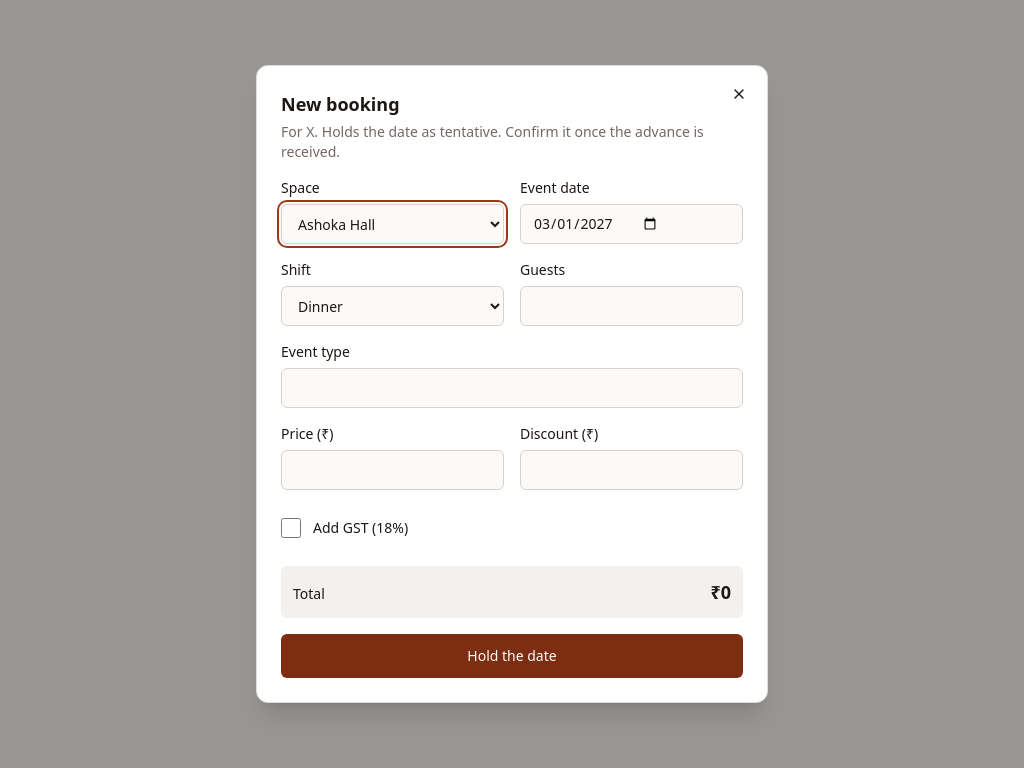
Test: NewBookingDialog › rejects a discount larger than the price
Type "1000" into the field labelled "Price (₹)" at (392, 470), box [281, 450, 504, 490]
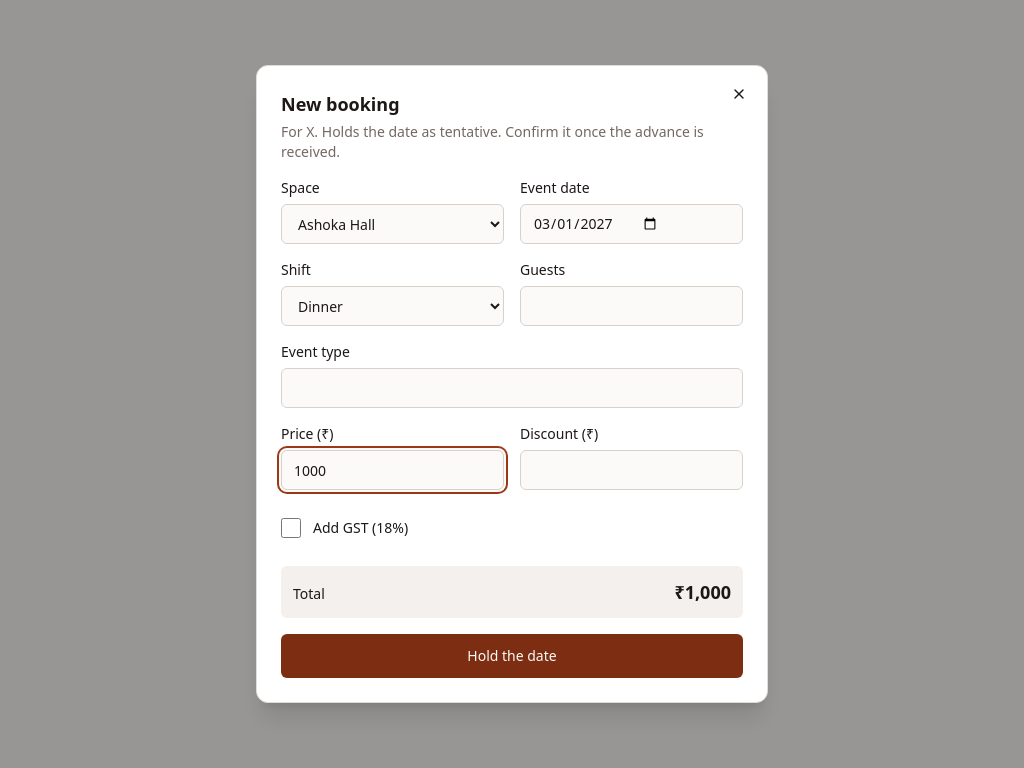
Type "5000" into the field labelled "Discount (₹)" at (632, 470), box [520, 450, 743, 490]
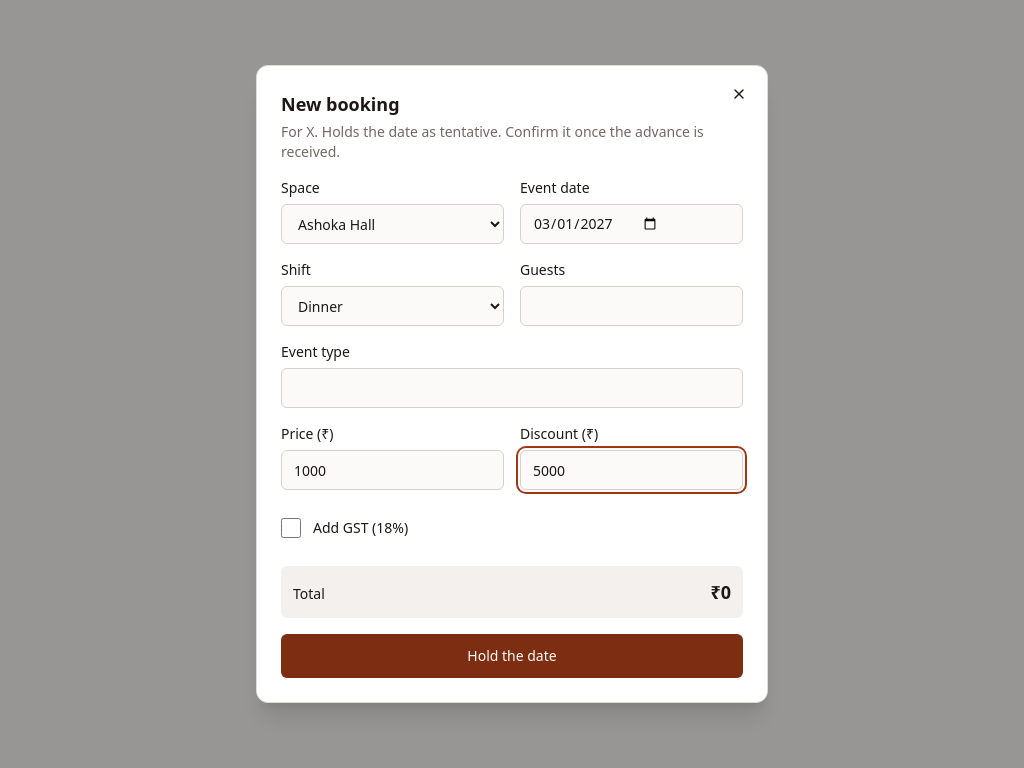
Click the button "Hold the date" at (512, 656), box [281, 634, 743, 678]
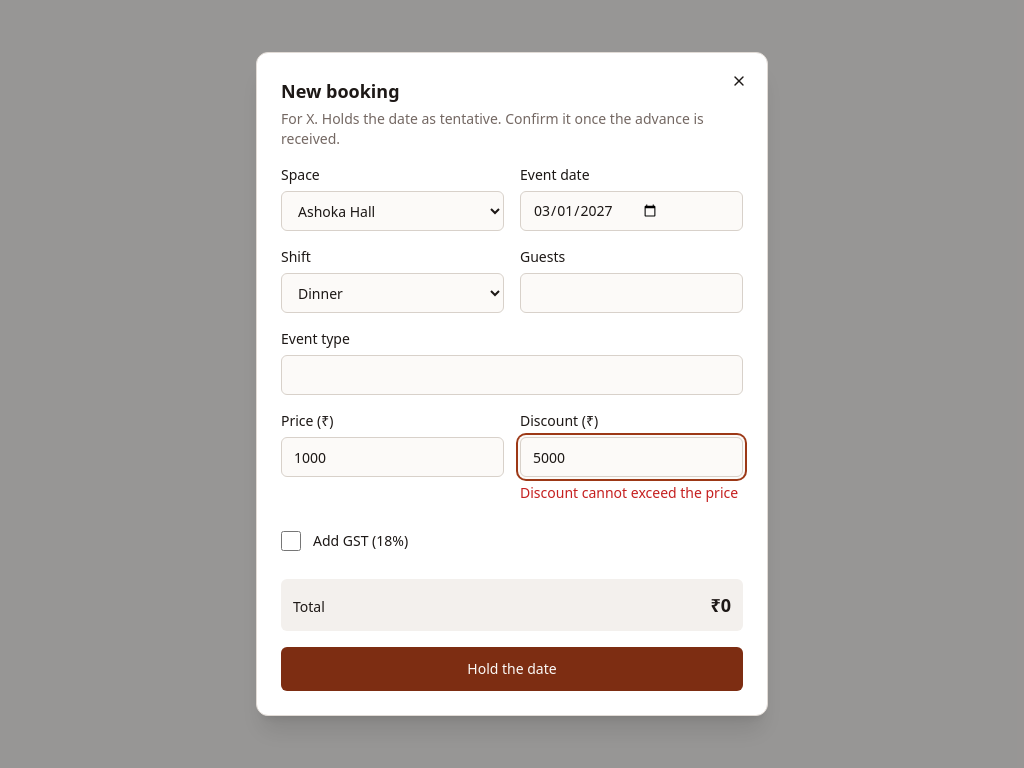
Result: the text "Discount cannot exceed the price" is shown at [520, 483, 743, 503]
